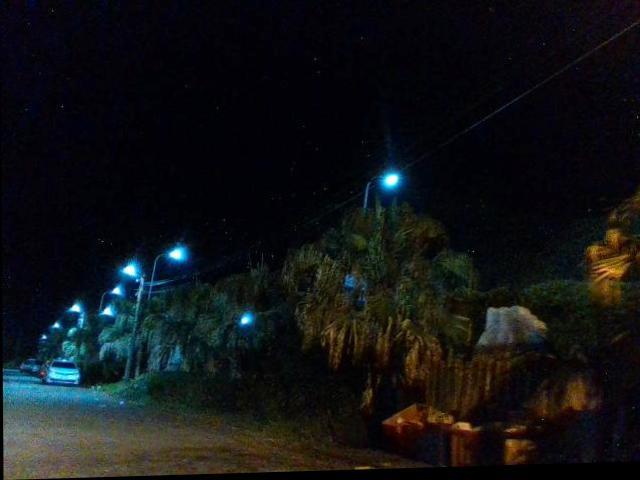pollute: (373, 307, 609, 468)
